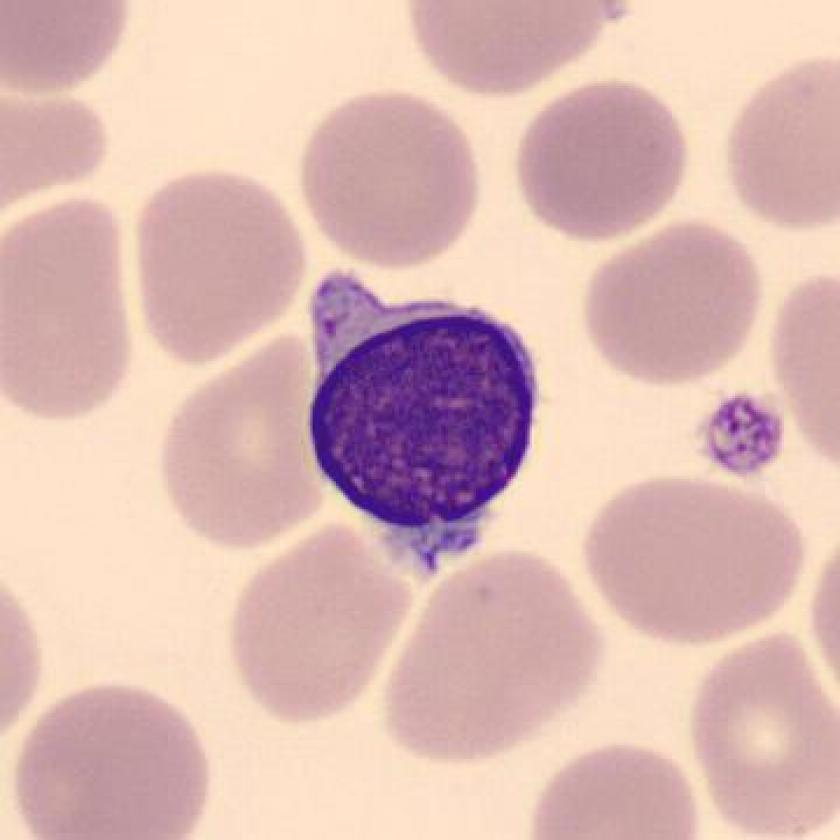lymphocyte: (290, 253, 559, 584)
